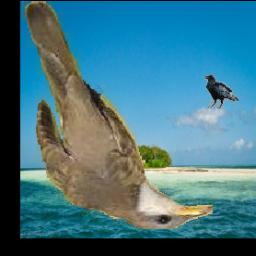Crow: (204, 75, 239, 109)
Cuckoo: (21, 1, 213, 229)
